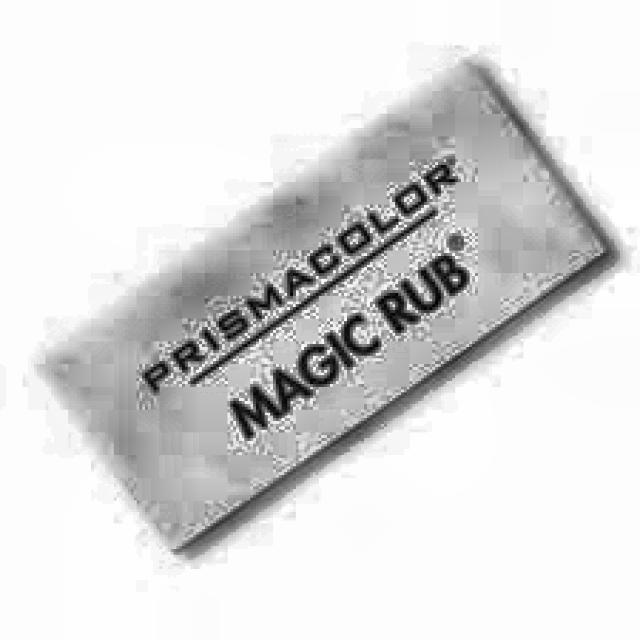eraser: (23, 48, 617, 560)
